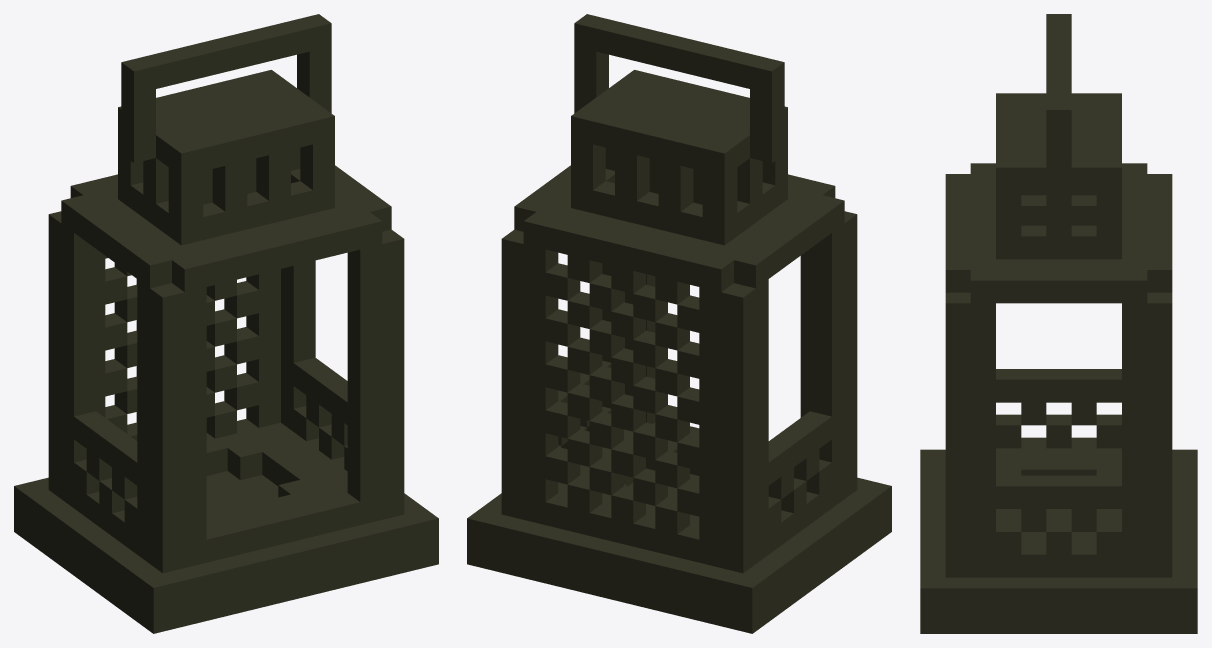
The model's file is Lanterne.obj.
The picture shows the model from 3 angles, left to right: view 1: azimuth 30°, elevation 25°; view 2: azimuth 150°, elevation 25°; view 3: azimuth 270°, elevation 25°; orthographic projection.
Visible parts, largest first — view 1: Lanterne; view 2: Lanterne; view 3: Lanterne.
Boxes of the visible parts, <box> form: Lanterne: <box>14,14,438,633</box>; Lanterne: <box>467,14,891,633</box>; Lanterne: <box>920,14,1197,633</box>.
Bounding box in the file's own units: 13 × 22 × 11.
1 material, 1 textured.
